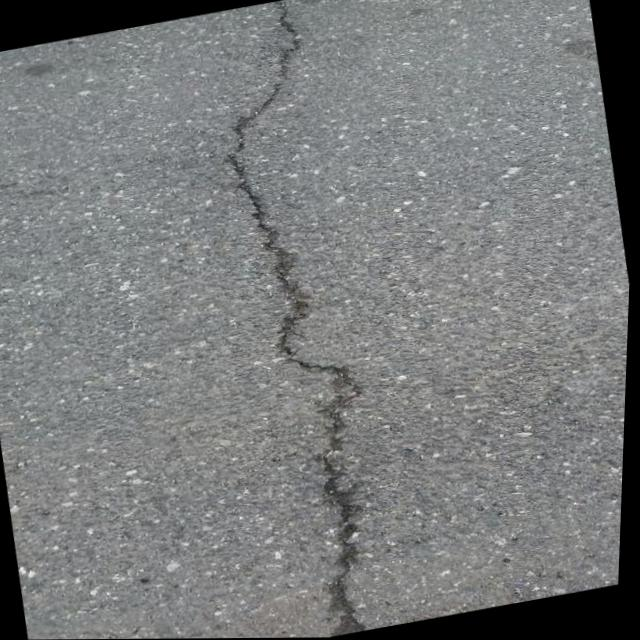Crack: (158, 0, 432, 639)
